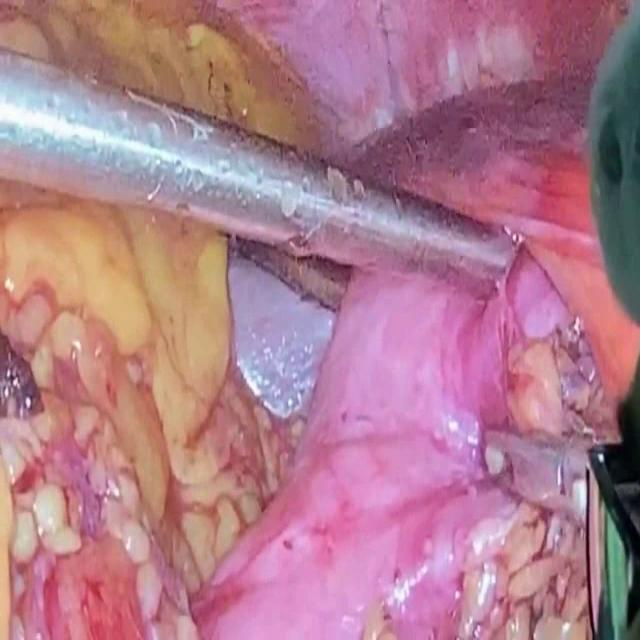surgical-tool: (0, 39, 524, 297)
